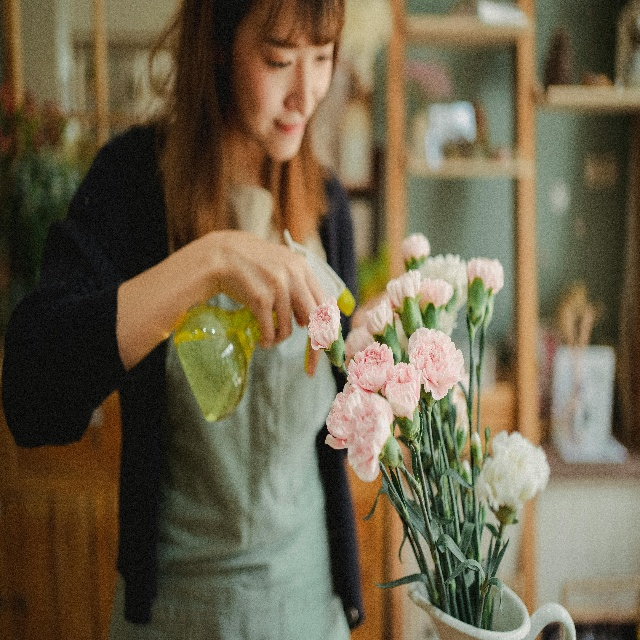Sin_guantes: (227, 225, 324, 344)
